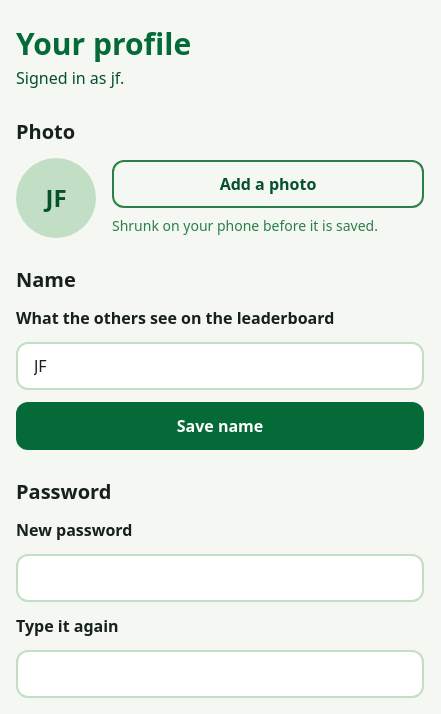
Scenario: ProfileScreen › surfaces the Firebase reason when a password change is refused
Type "longenough" into the password field labelled "New password" at [220, 578], box x1=16 y1=554 x2=424 y2=602
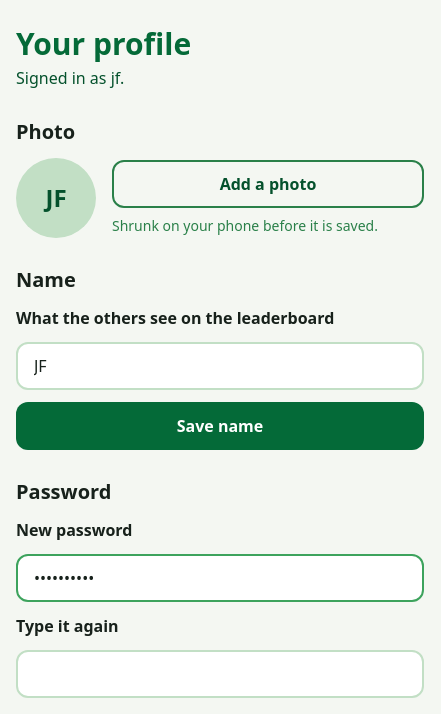
Type "longenough" into the password field labelled "Type it again" at [220, 674], box x1=16 y1=650 x2=424 y2=698
(page scrolled)
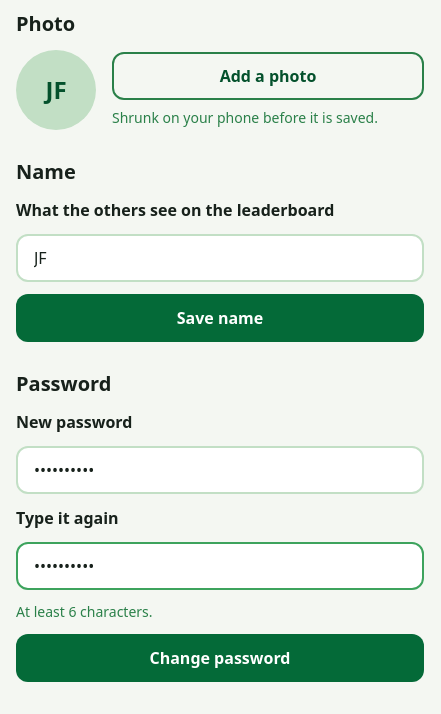
Click the button "Change password" at [220, 658], box x1=16 y1=634 x2=424 y2=682
(page scrolled)
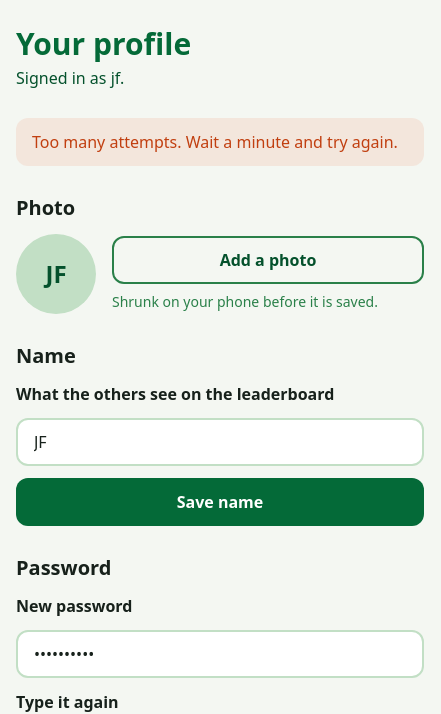
Expected: the message shows "Too many attempts", x1=32 y1=131 x2=398 y2=153
